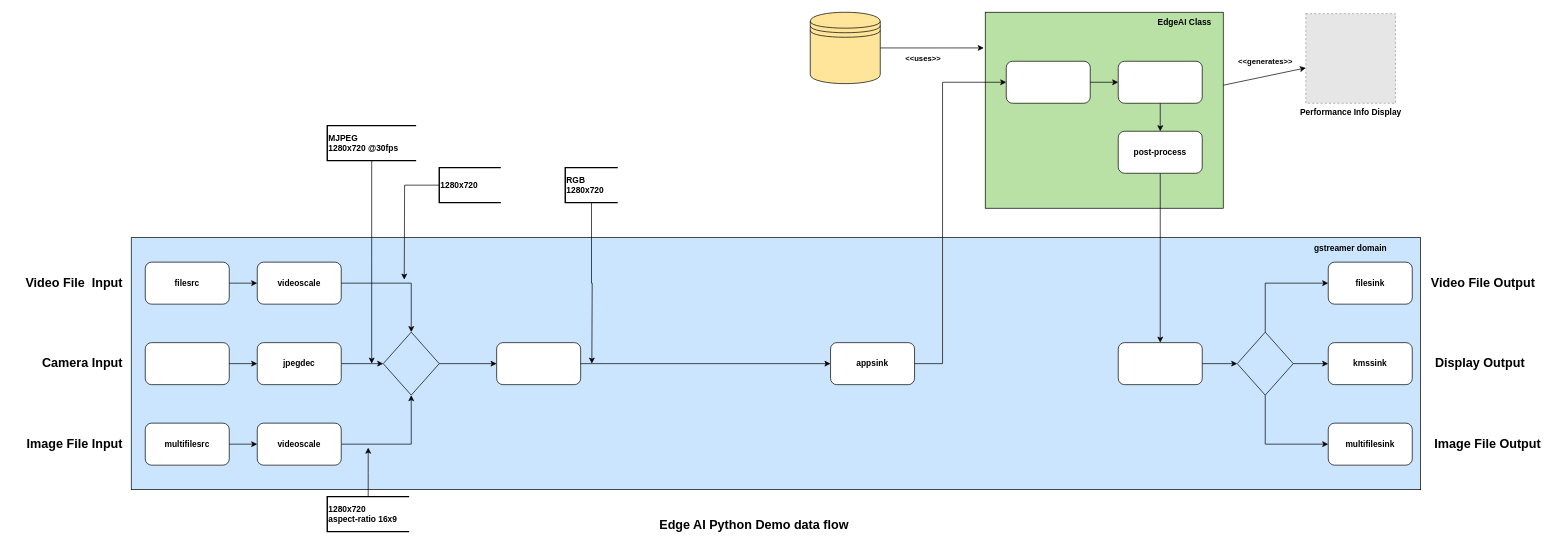
The diagram is 1557 pixels wide and 545 high, and some of its shapes have lost their labels. Grey dashed boxes stand in for pictures. Here are the shapes that lost their labels. From the top down, the box of each, then its label:
(810, 12, 880, 84): Model database
(1006, 61, 1090, 103): pre-process
(1118, 61, 1202, 103): Inference
(145, 342, 229, 385): v4l2src
(383, 331, 439, 395): Input choice
(496, 342, 581, 385): videoconvert
(1118, 342, 1202, 385): appsrc
(1237, 331, 1293, 395): Output choice
